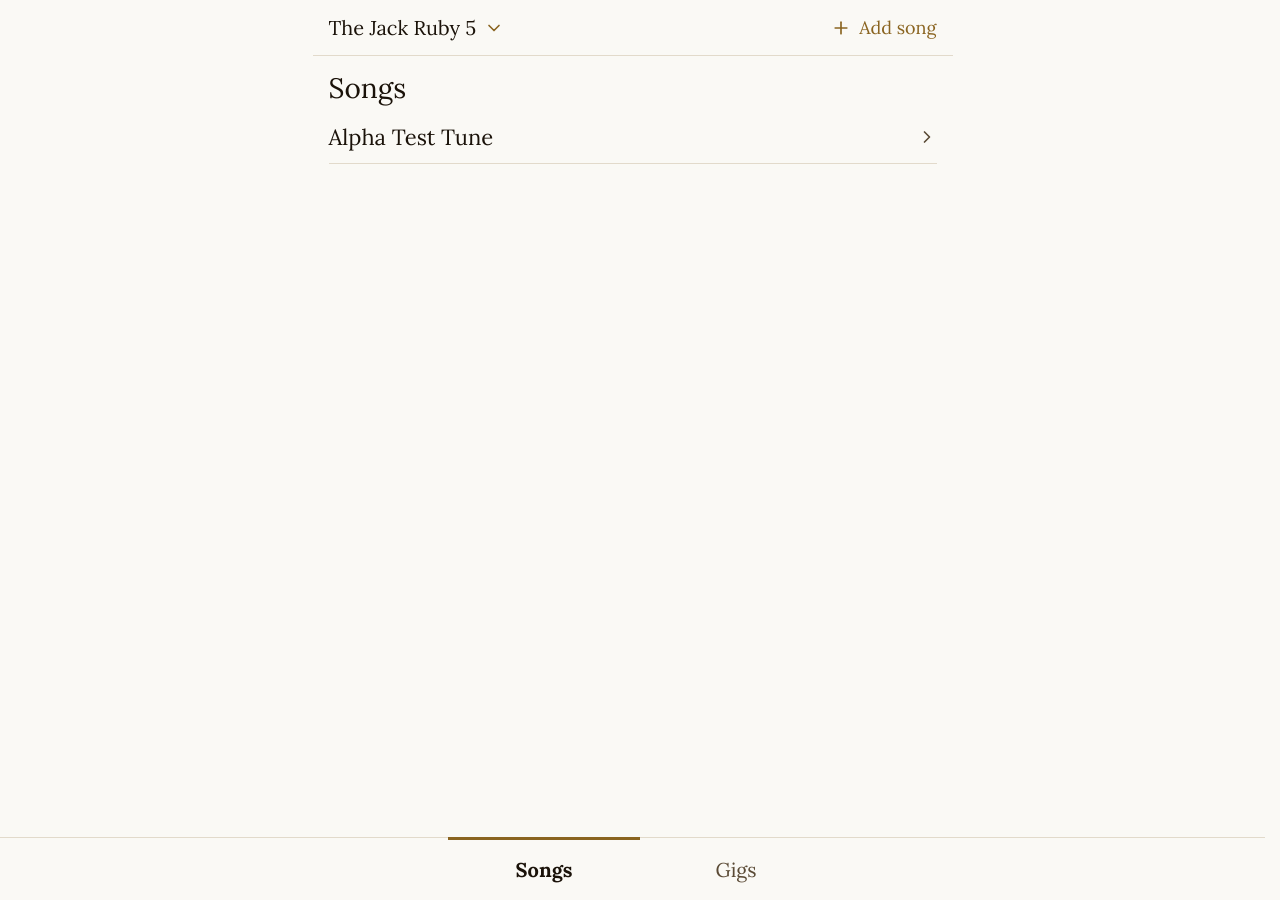
Test: AppBootstrap › signed in: / → Songs → a song page
The image size is (1280, 900).
Click the link "Songs" at {"x": 544, "y": 868}, box [448,837,640,899]
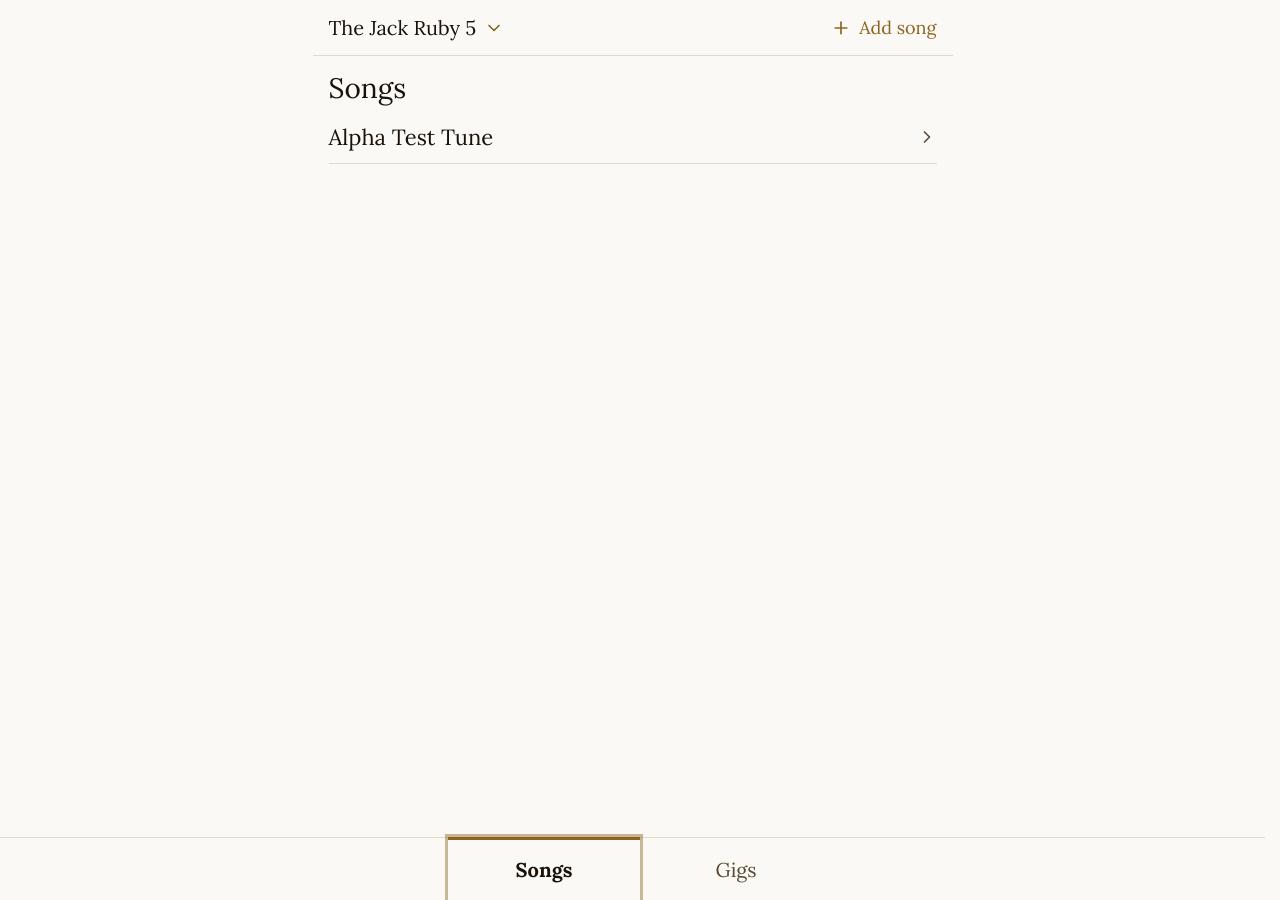
Click the link "Alpha Test Tune" at {"x": 411, "y": 137}, box [328,123,936,151]
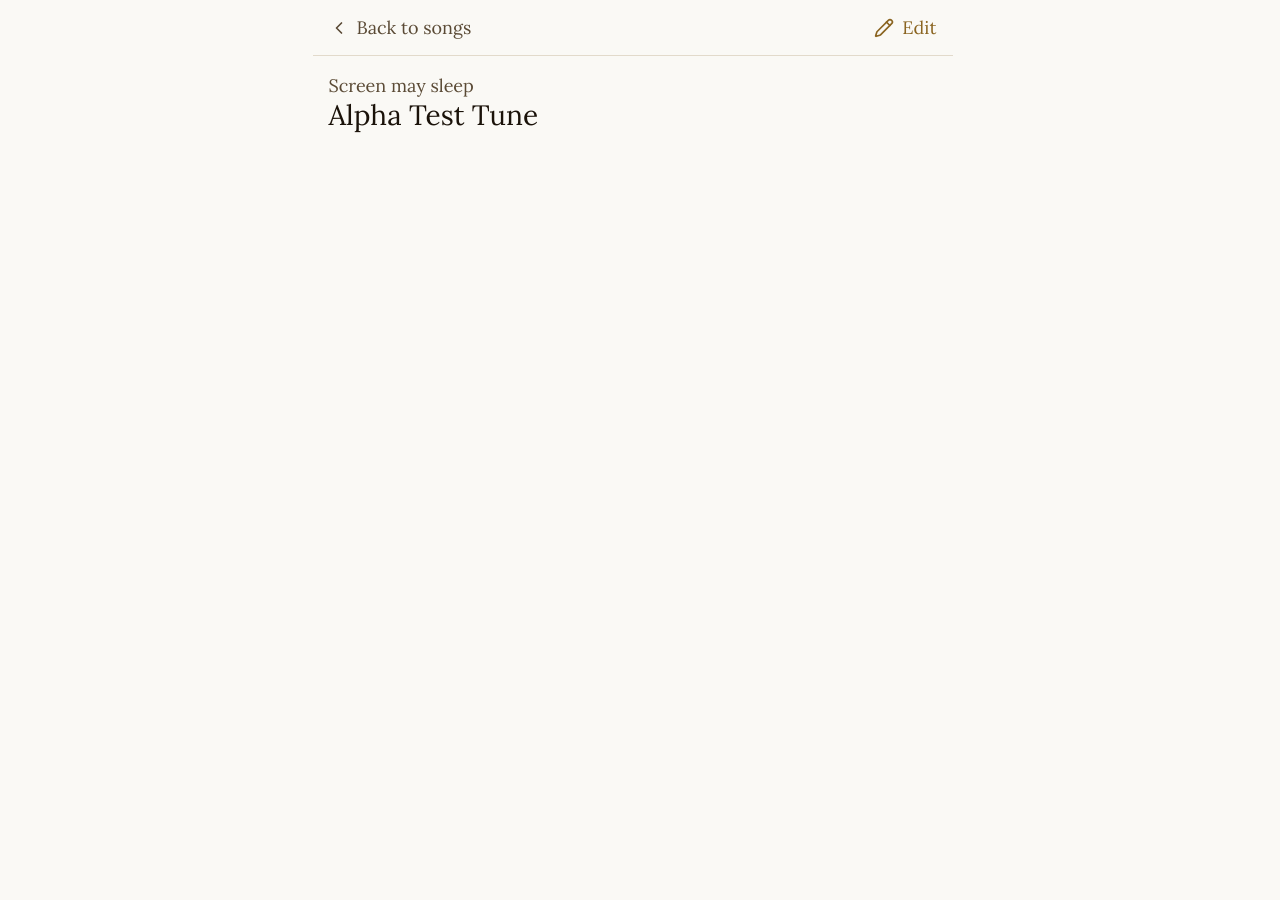
Expected: the link "Back to songs" is shown, [328,16,471,39]
Expected: the heading "Alpha Test Tune" is shown, [328,97,538,133]
